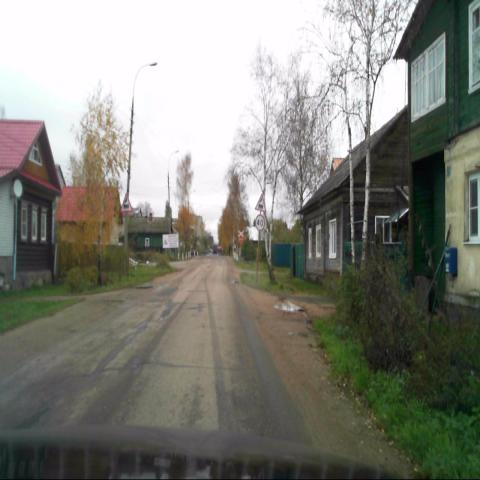1_2: (120, 193, 132, 213)
